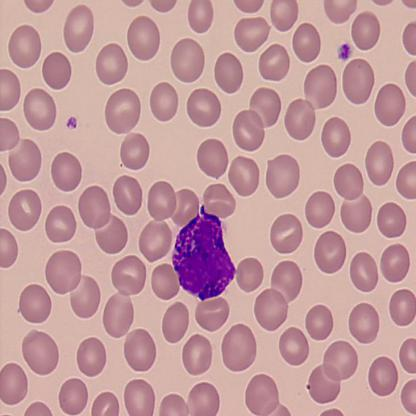Basophil: (168, 205, 238, 304)
